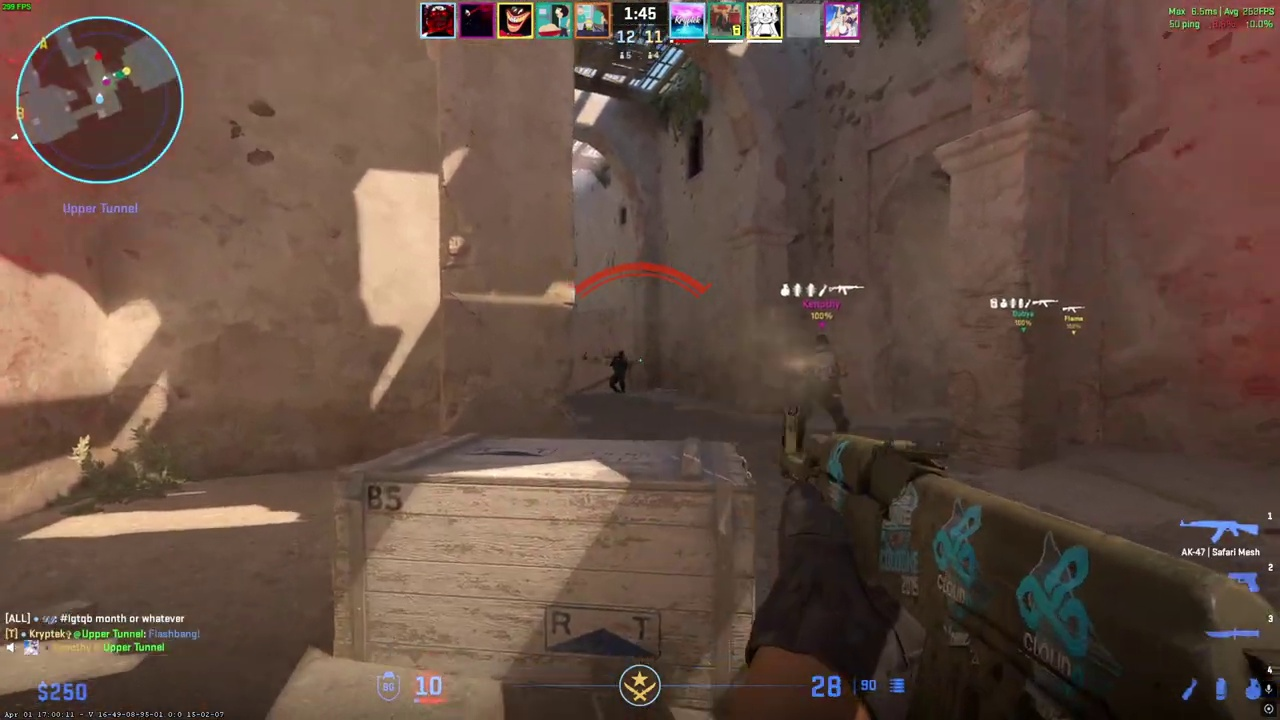CT: (609, 350, 629, 394)
Terrorist: (797, 334, 850, 432)
